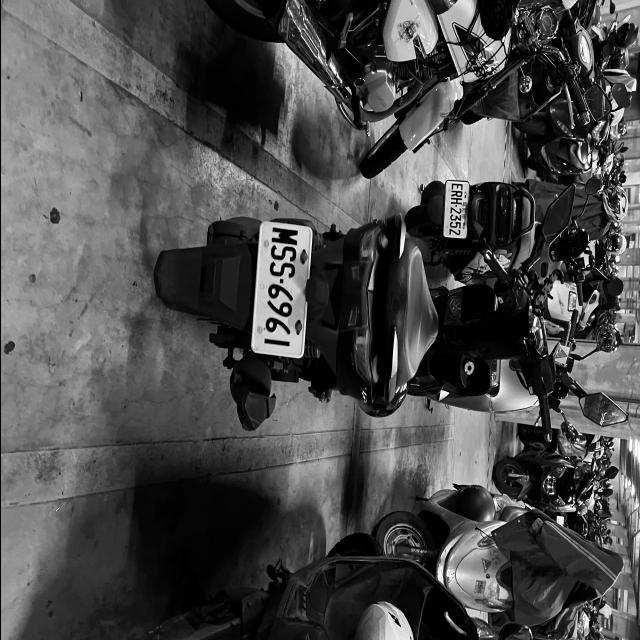-: (278, 276, 286, 284), (454, 205, 456, 207)
1: (258, 336, 292, 348)
2: (448, 229, 459, 236), (450, 208, 460, 214)
3: (449, 214, 461, 222)
5: (448, 222, 461, 230)
6: (264, 318, 292, 336), (266, 284, 294, 298)
9: (266, 301, 294, 317)
E: (450, 183, 462, 190)
H: (449, 198, 462, 205)
M: (272, 228, 300, 245)
R: (450, 190, 462, 197)
S: (270, 246, 298, 262), (269, 263, 297, 277)
plate: (252, 225, 310, 351), (444, 180, 468, 237)
